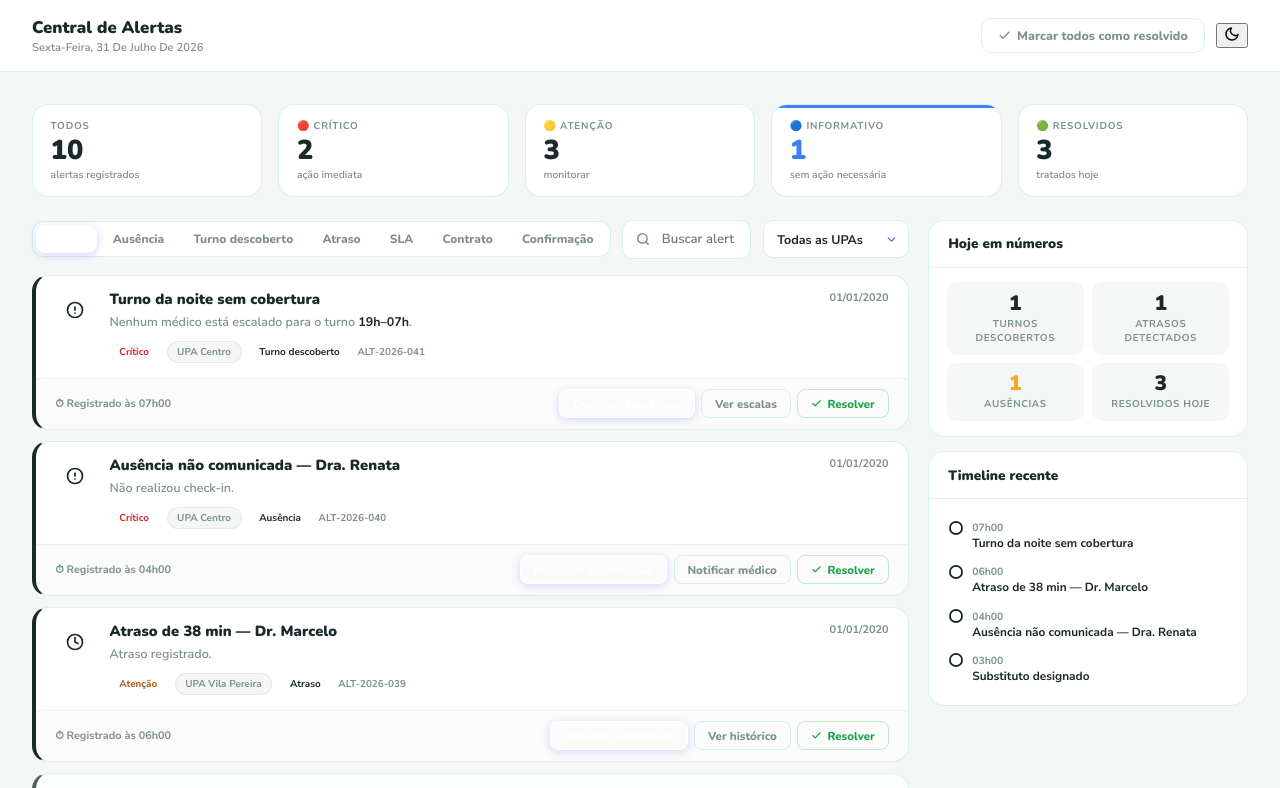
<AdminAlertas /> › filtra por tipo Ausência via tab
Expected: the element with class "alt-list" shows "Turno da noite sem cobertura", x1=110 y1=289 x2=320 y2=309
Click the button "Ausência" at [138, 239], box x1=99 y1=225 x2=178 y2=254
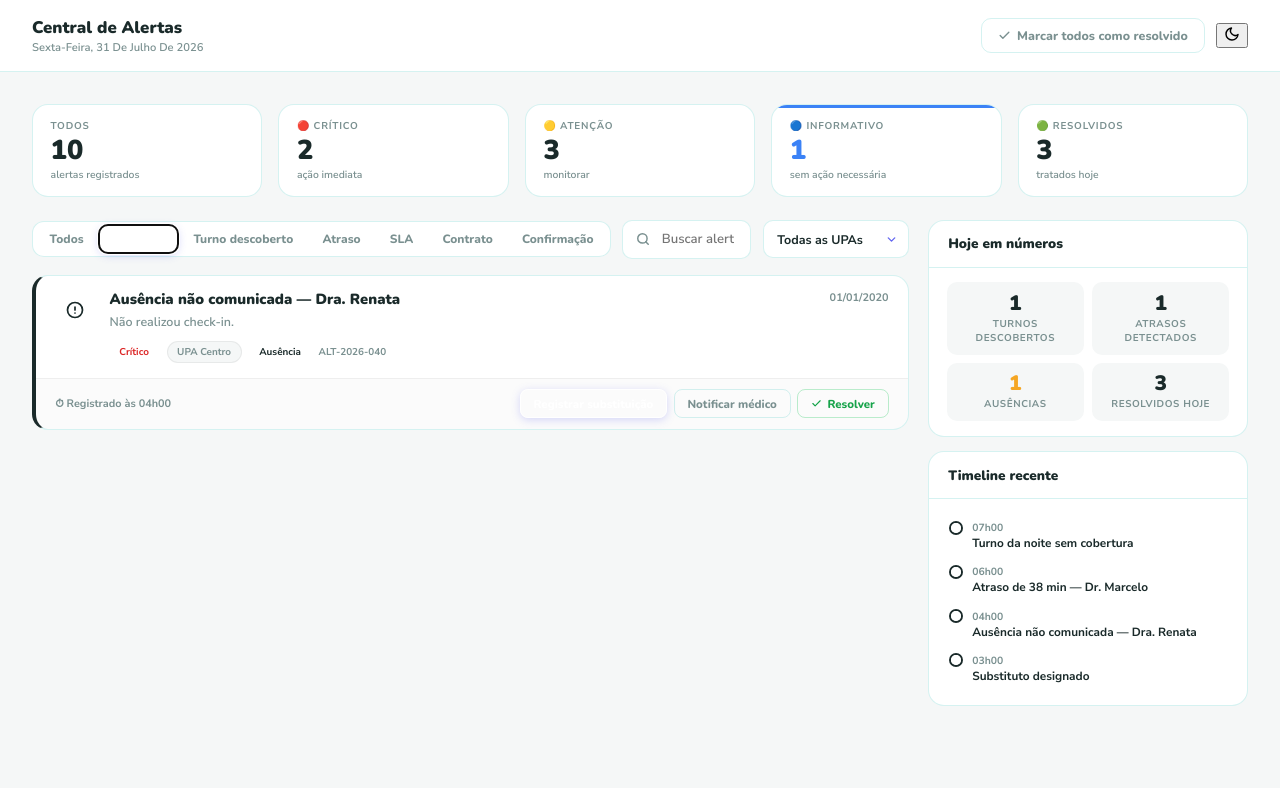
Expected: the element with class "alt-list" shows "Ausência não comunicada", x1=110 y1=289 x2=400 y2=309
Result: the element with class "alt-list" no longer shows "Turno da noite sem cobertura"
